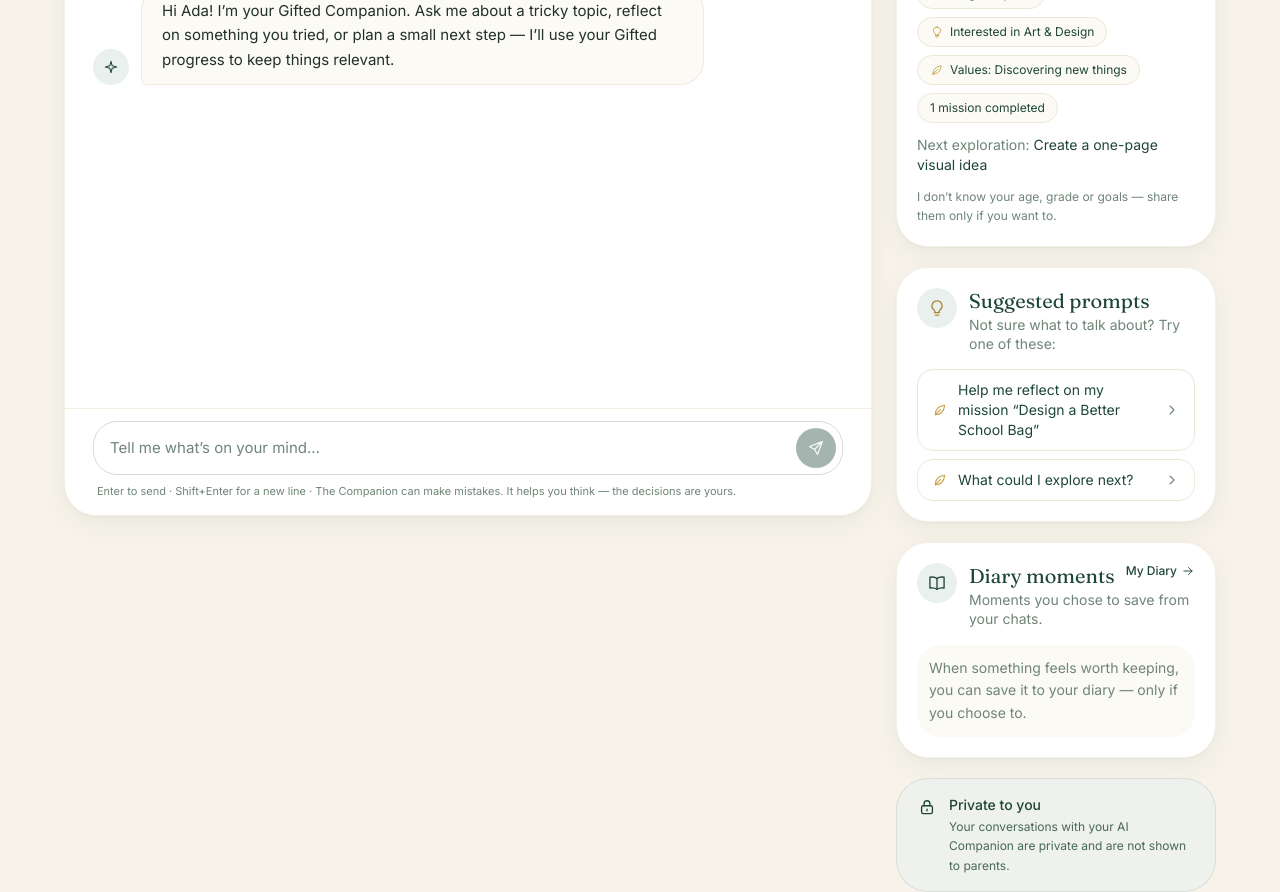
Test: AI Companion page › a suggested prompt sends that message and shows the reply
(page scrolled)
Click the button "What could I explore next?" at {"x": 1056, "y": 480}, box 917,459 -> 1195,501
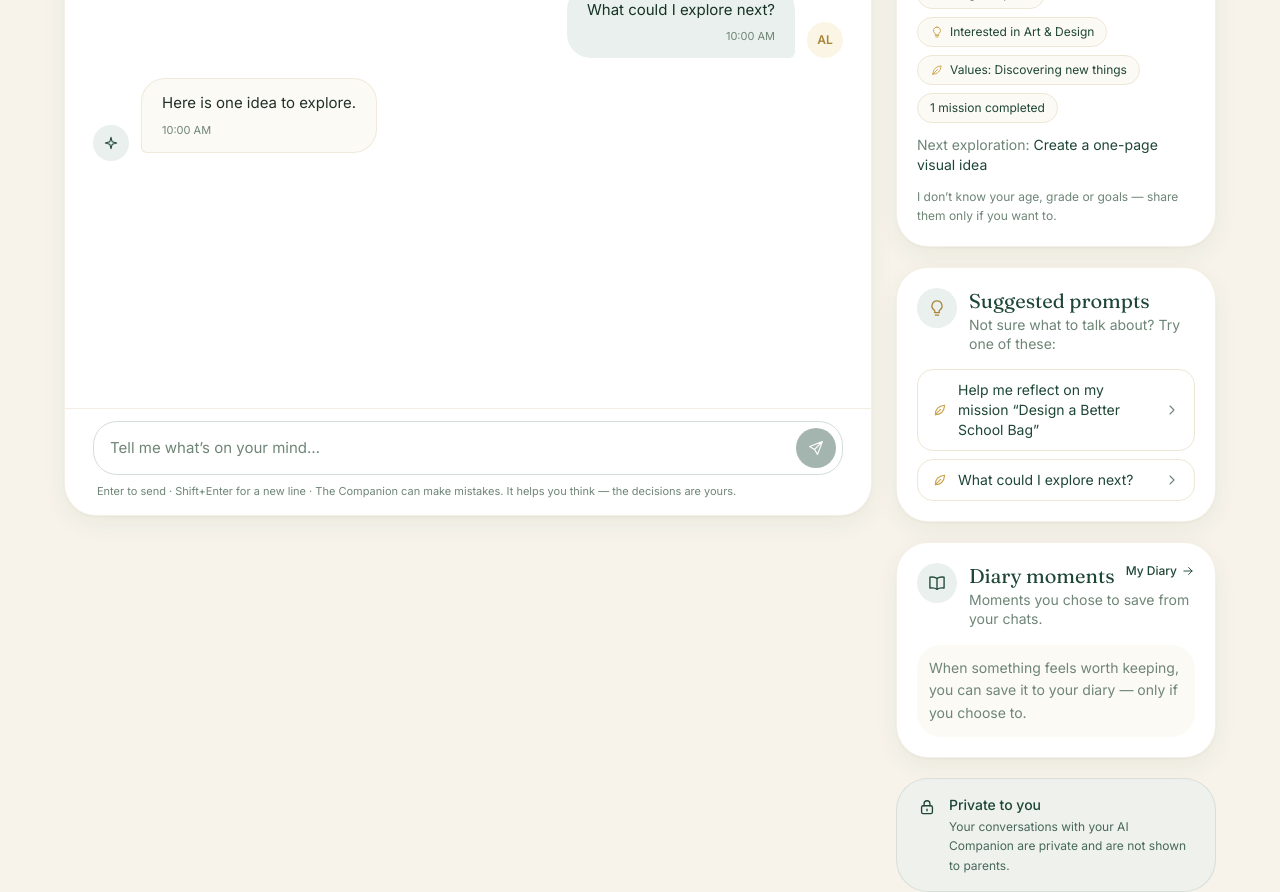
Check: the text "Here is one idea to explore." is shown, box 162,91 -> 356,116
